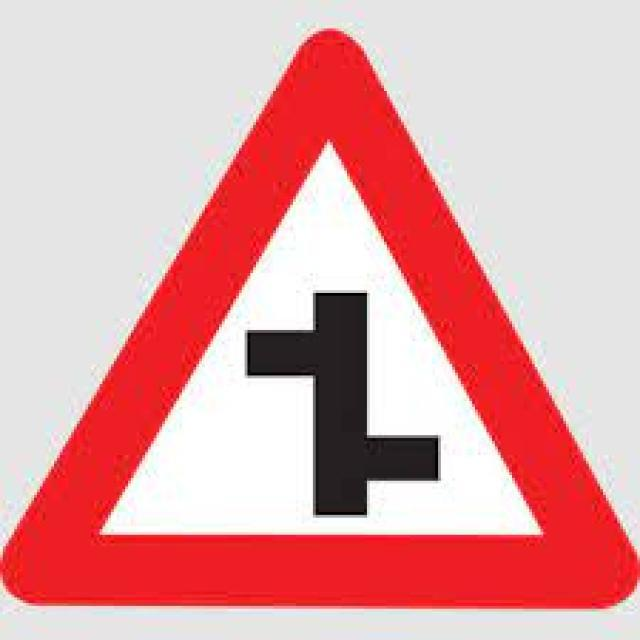staggered intersection: (51, 29, 598, 594)
